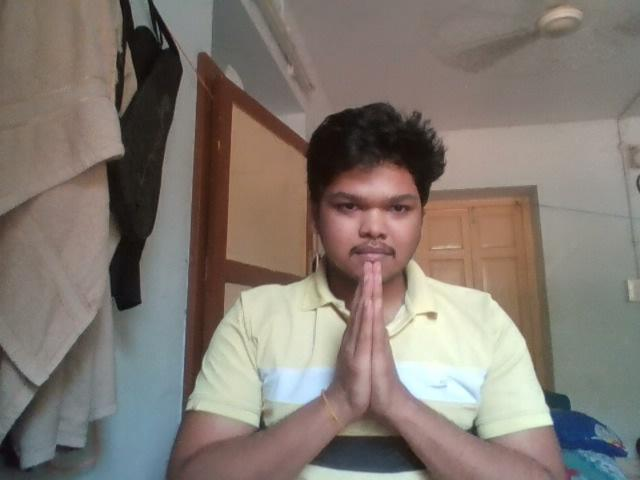please: (310, 247, 427, 430)
